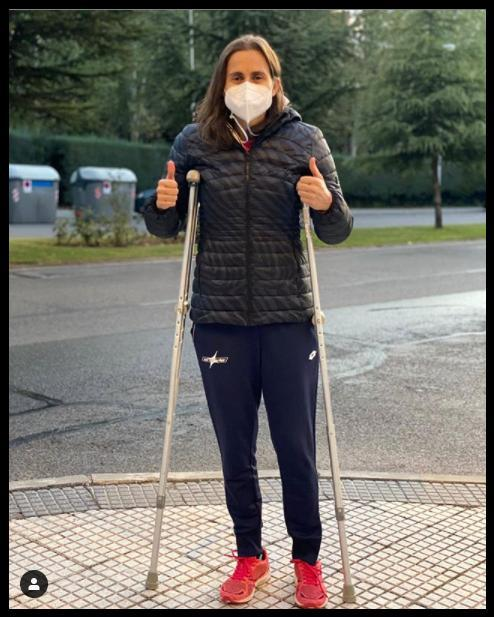crutches: (130, 24, 364, 607)
